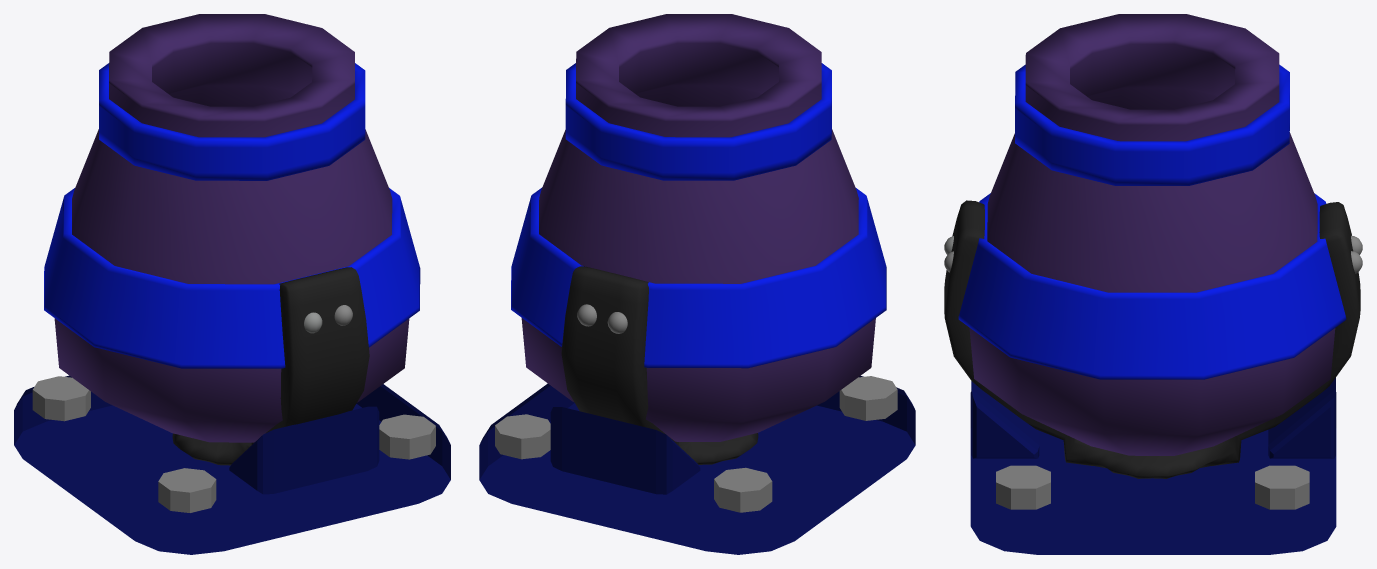
3 renders of one model, left to right at view 1: azimuth 30°, elevation 25°; view 2: azimuth 150°, elevation 25°; view 3: azimuth 270°, elevation 25°, orthographic. The views are drawn at different scales.
Parts seen in each view (by area): view 1: Plane.005; view 2: Plane.005; view 3: Plane.005.
Boxes of the visible parts, bbox=[...] form: Plane.005: bbox=[14, 14, 450, 554]; Plane.005: bbox=[479, 14, 915, 554]; Plane.005: bbox=[944, 14, 1362, 554].
Bounding box in the file's own units: 176 × 205 × 189.
